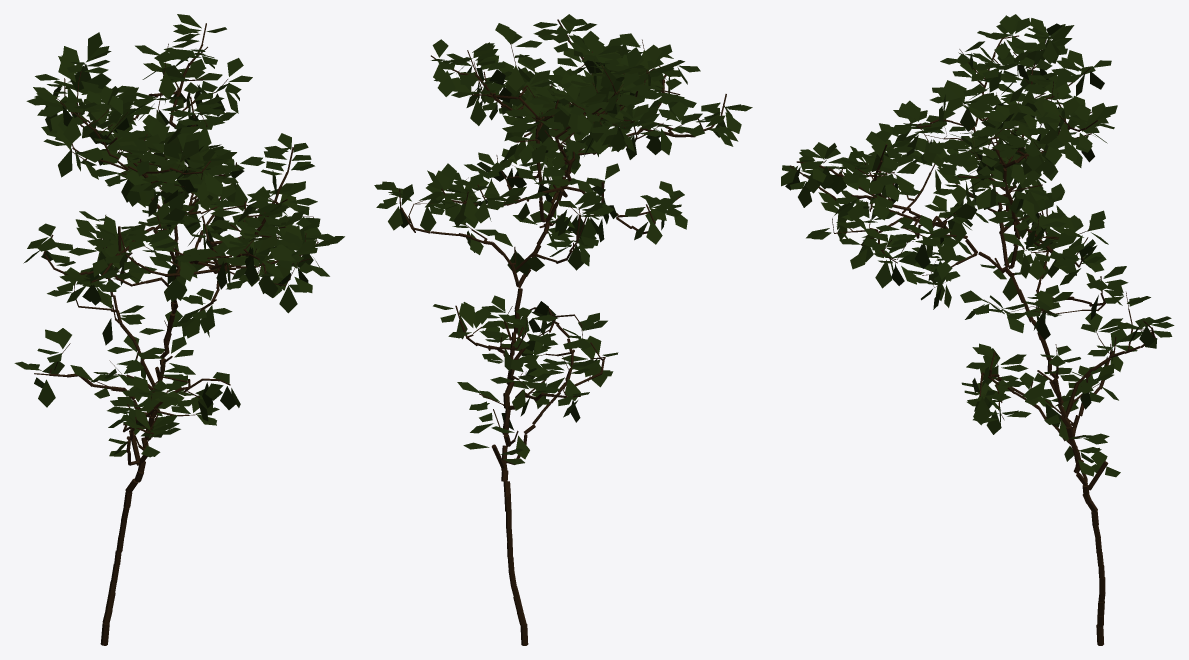
The model's file is tree_357.obj.
3 renders of one model, left to right at view 1: azimuth 30°, elevation 25°; view 2: azimuth 150°, elevation 25°; view 3: azimuth 270°, elevation 25°, orthographic. The views are drawn at different scales.
Parts seen in each view (by area): view 1: Leaves, TrunkAndBranches; view 2: Leaves, TrunkAndBranches; view 3: Leaves, TrunkAndBranches.
Boxes of the visible parts, x1=… form: Leaves: x1=14, y1=14, x2=344, y2=457; TrunkAndBranches: x1=34, y1=23, x2=318, y2=645; Leaves: x1=374, y1=14, x2=752, y2=464; TrunkAndBranches: x1=399, y1=19, x2=726, y2=645; Leaves: x1=781, y1=14, x2=1174, y2=477; TrunkAndBranches: x1=789, y1=35, x2=1155, y2=645.
Size of the model in its own units: 3.21 by 6.87 by 4.03.
